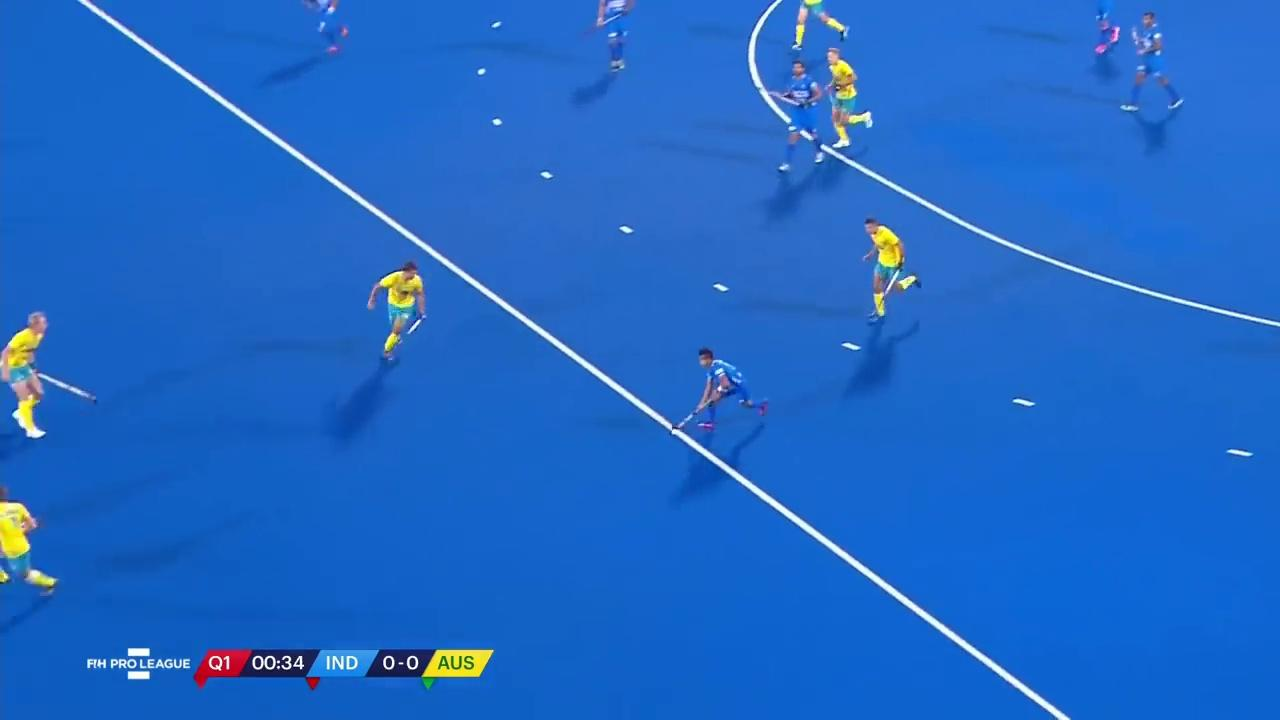ball: (667, 427, 682, 438)
